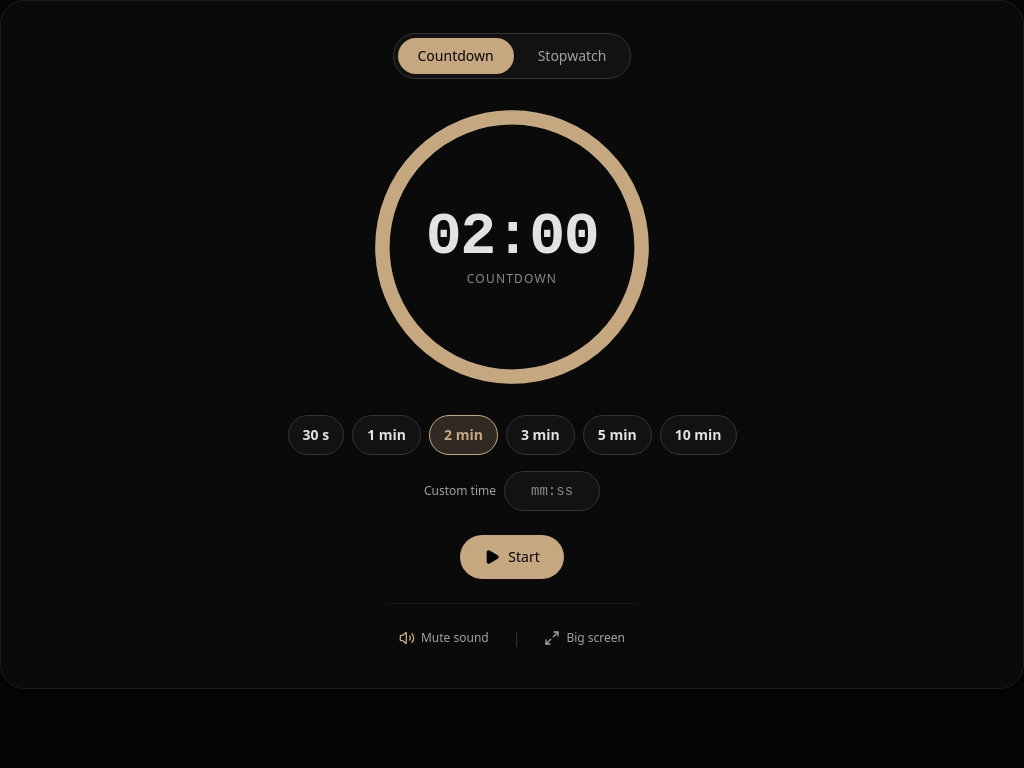
Scenario: ClassroomTimer (SDD/2026-10-03_05-cronometro-visual.md) › CT04 / CA04: shows 'Time's up!' and plays sound; mute silences audio
Note: Custom countdown of 3 seconds
Type "00:03" into the field with placeholder "mm:ss".
click(552, 491); type("00:03")  # box [504,471,600,511]
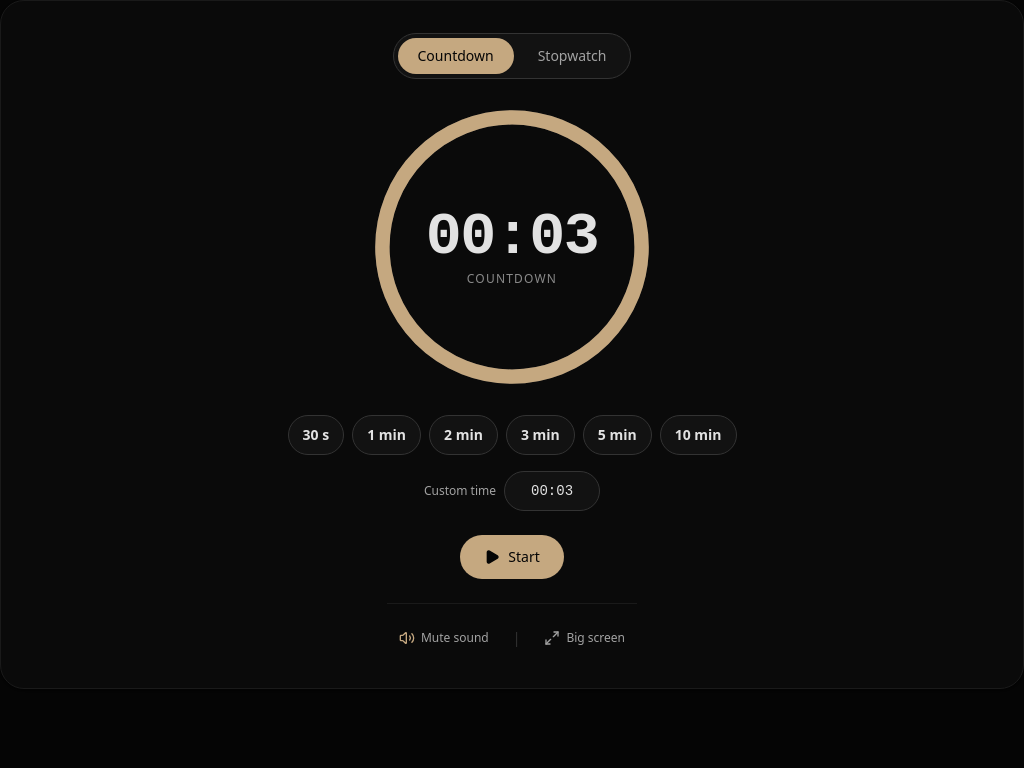
Check: the text "00:03" is shown, box [426,207,598,267]
Click the button "Start".
click(512, 557)  # box [460,535,564,579]
Wait 3000 ms
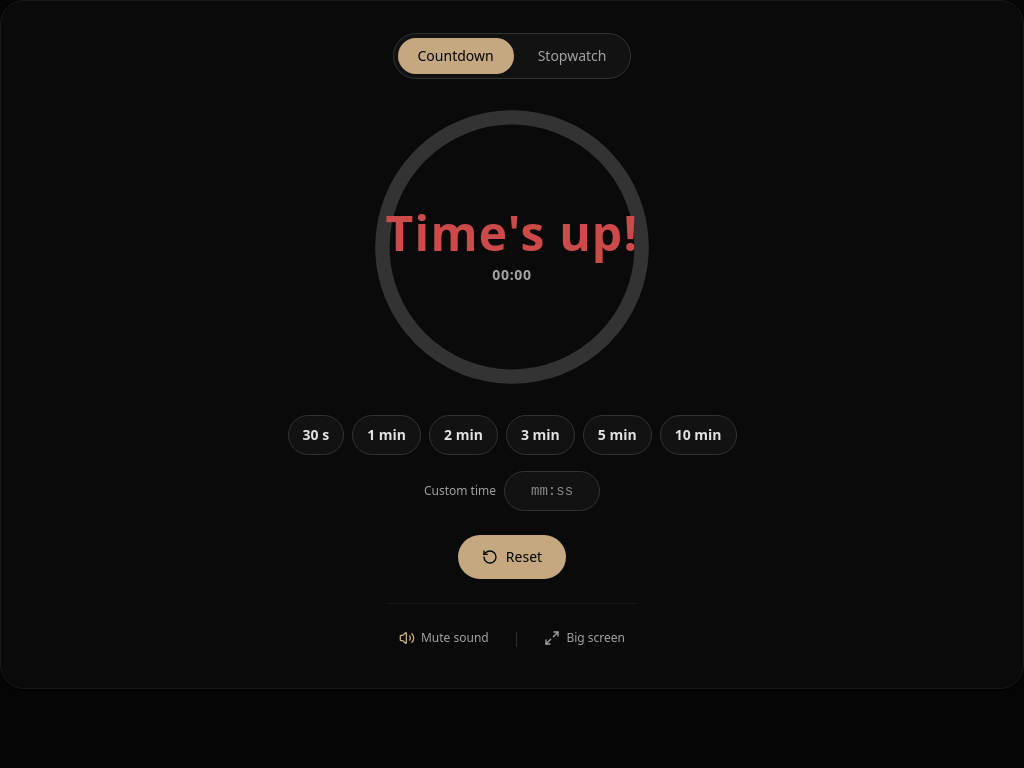
Check: the text "Time's up!" is shown, box [386,209,638,257]
Click the button "Reset".
click(512, 557)  # box [458,535,566,579]
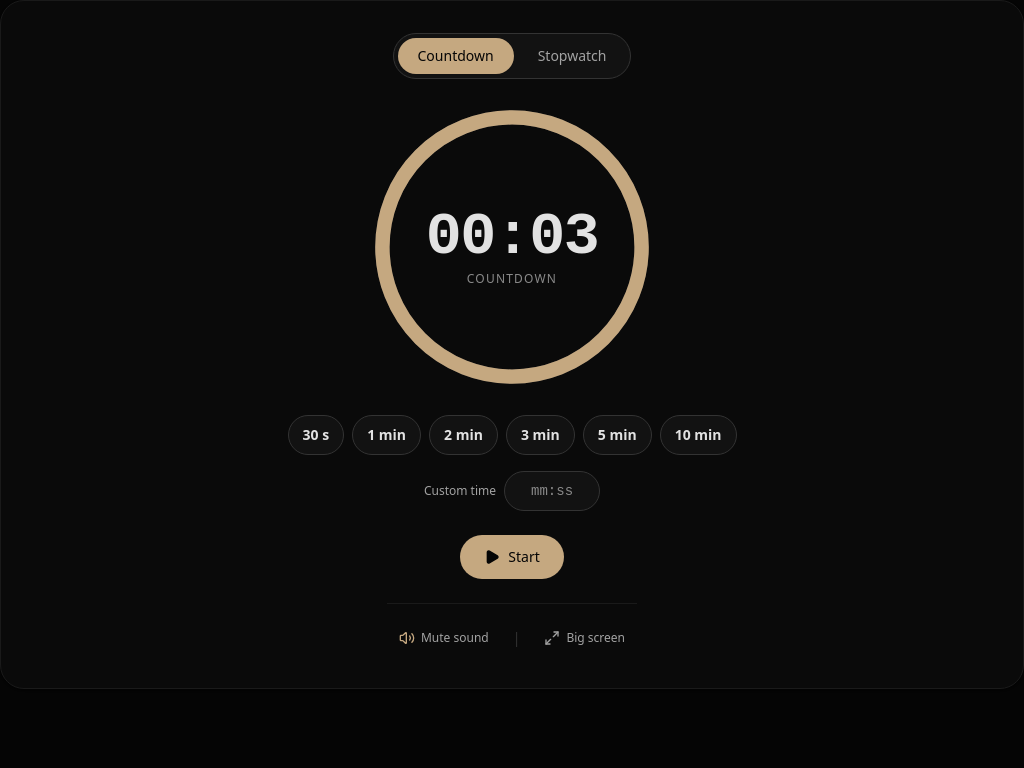
Note: Turn mute on
Click the button "Mute sound".
click(444, 638)  # box [387,620,501,656]
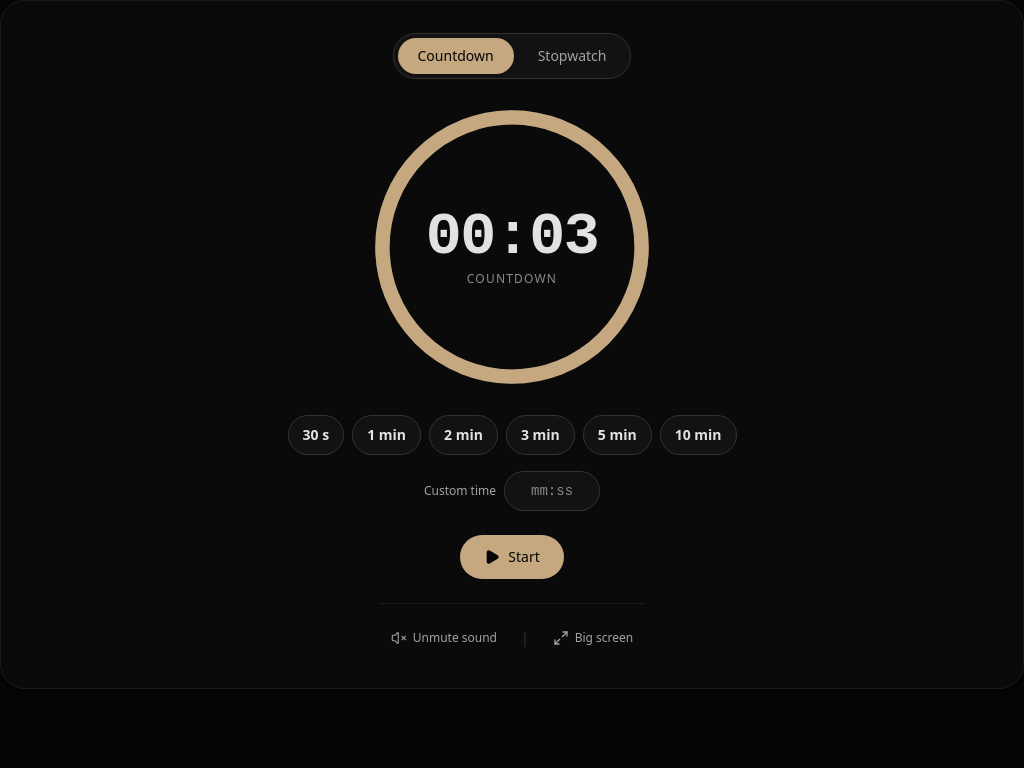
Note: Start 3 seconds again
Type "00:03" into the field with placeholder "mm:ss".
click(552, 491); type("00:03")  # box [504,471,600,511]
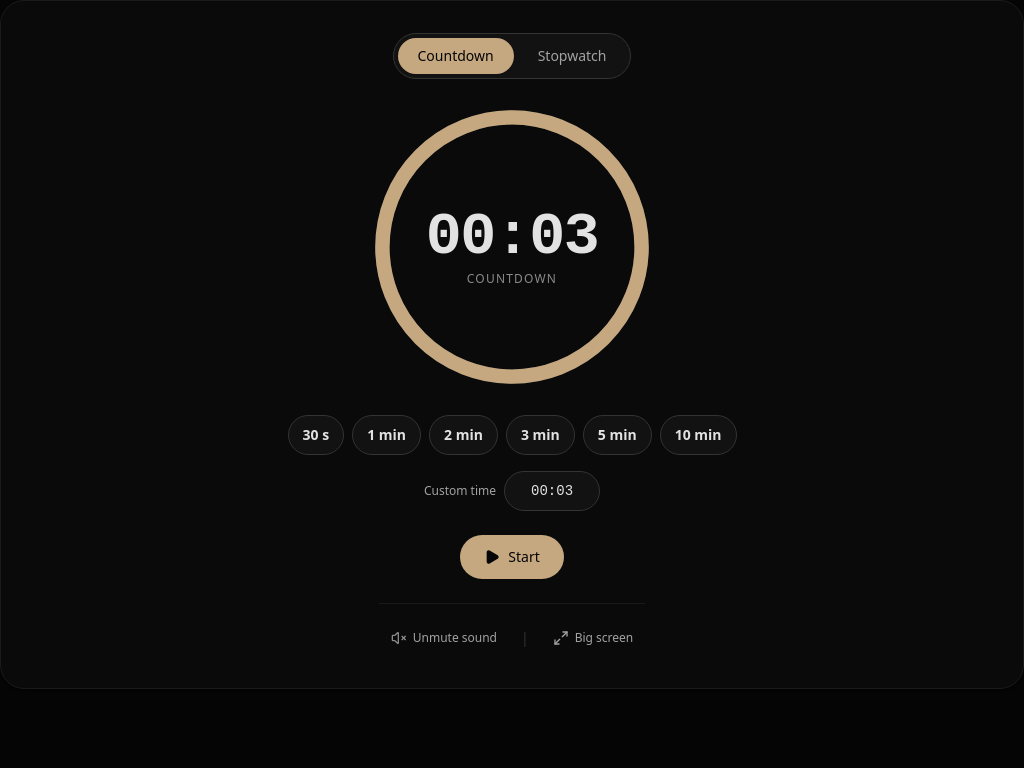
Click the button "Start".
click(512, 557)  # box [460,535,564,579]
Wait 3000 ms
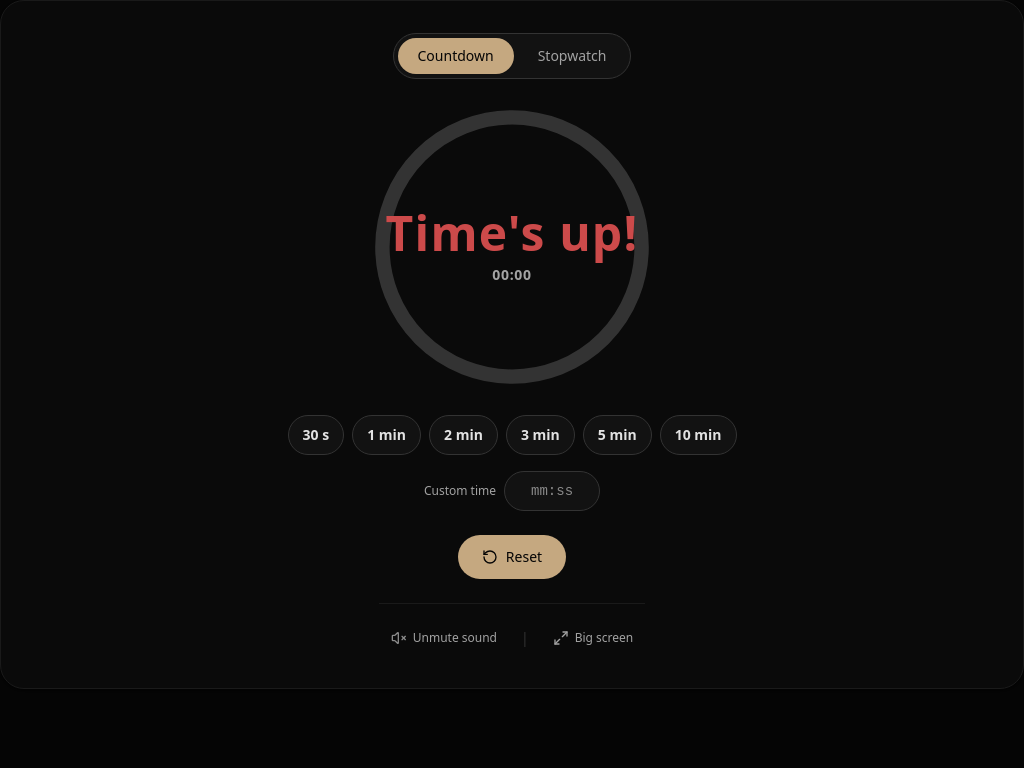
Check: the text "Time's up!" is shown, box [386,209,638,257]
